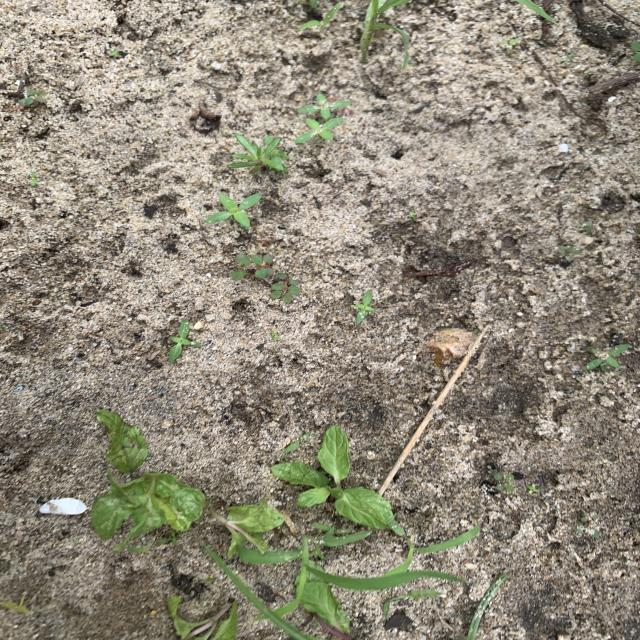crop: (273, 425, 406, 535), (91, 470, 206, 550), (211, 499, 285, 559), (295, 564, 350, 640), (97, 410, 147, 474), (168, 596, 238, 640)
weed: (262, 536, 466, 640), (203, 545, 314, 640), (360, 0, 411, 70), (231, 254, 299, 303), (294, 94, 350, 144), (228, 133, 289, 174), (205, 193, 261, 230), (298, 1, 345, 32), (420, 528, 478, 552), (168, 320, 201, 362), (585, 343, 633, 371), (481, 472, 523, 496), (515, 0, 556, 24), (351, 290, 375, 324), (283, 430, 311, 455), (18, 89, 52, 109), (240, 547, 282, 561), (630, 40, 640, 72), (526, 483, 539, 495)
